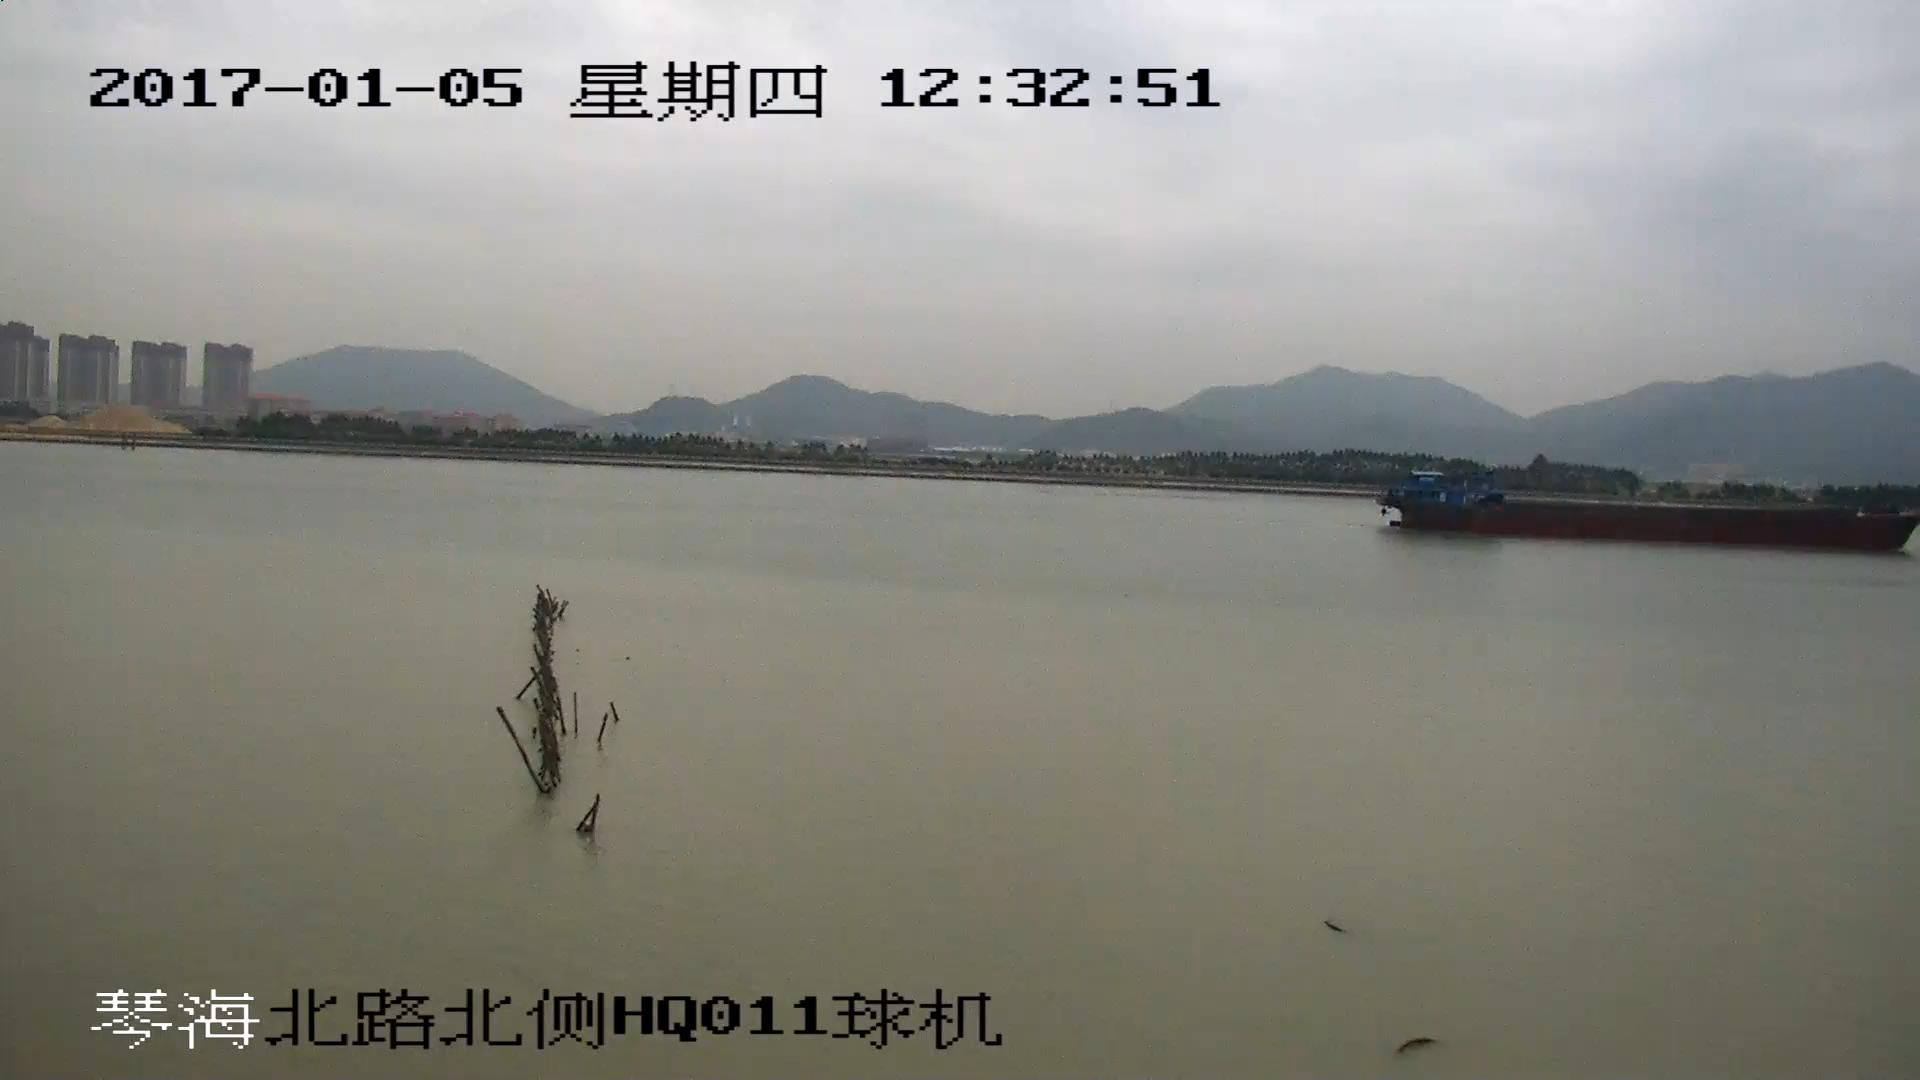bulk cargo carrier: (1382, 471, 1920, 547)
